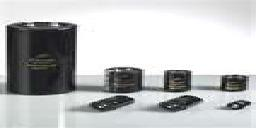Electrolytic-capacitor: (5, 19, 79, 98), (101, 65, 146, 93), (162, 67, 195, 94), (219, 73, 251, 95)
